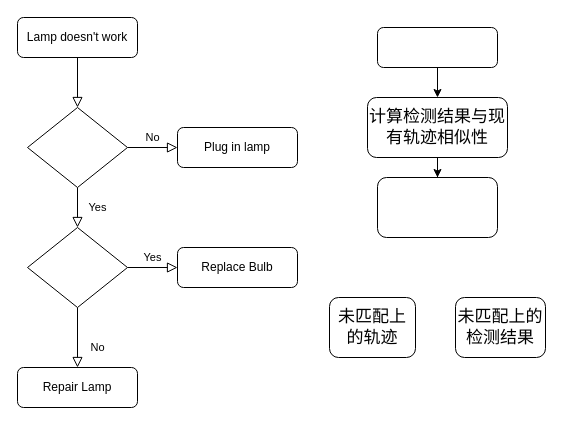
The diagram is 563 pixels wide and 425 high, and some of its shapes have lost their labels. The centre of each missing label's shape, as x and y in pixels:
Bulb burned out?: (x=77, y=267)
Lamp plugged in?: (x=77, y=147)
利用匈牙利算法进行匹配: (x=437, y=207)
开始跟踪: (x=437, y=47)
